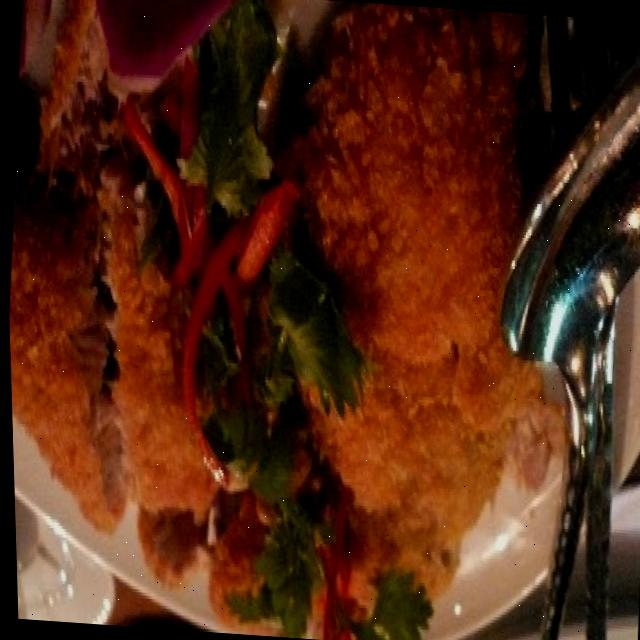炸货点心: (0, 0, 593, 640)
熟制海鲜: (0, 0, 593, 640)
